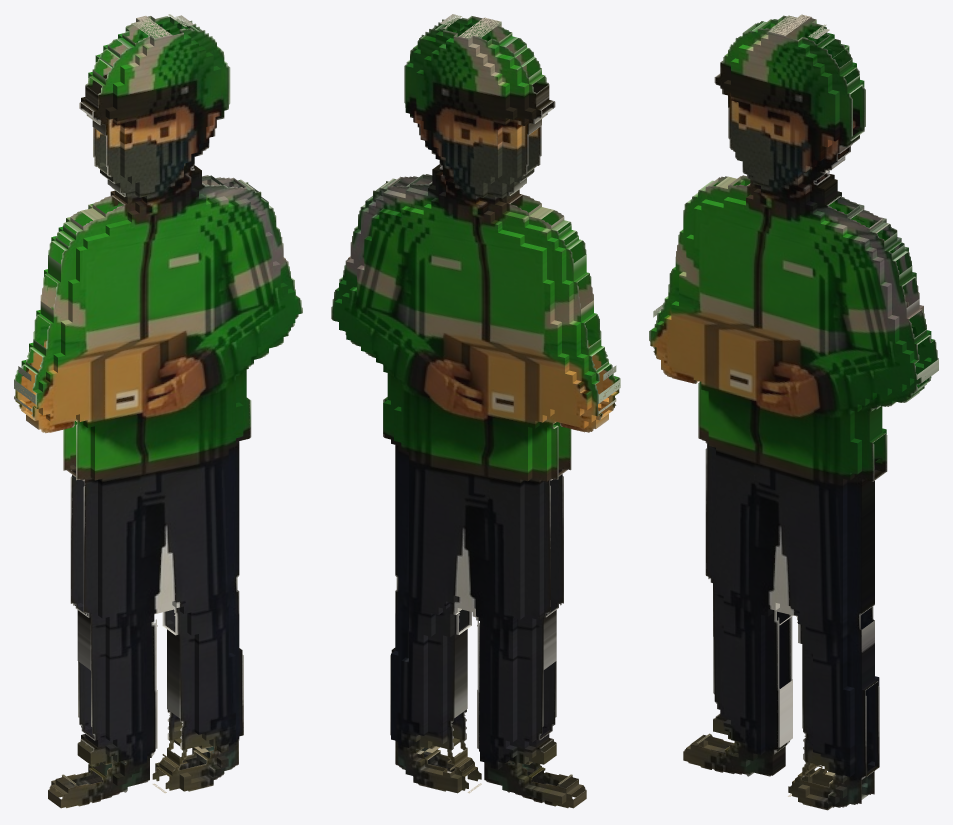
Rendered from char_0.glb.
The picture shows the model from 3 angles, left to right: view 1: azimuth 30°, elevation 25°; view 2: azimuth 150°, elevation 25°; view 3: azimuth 330°, elevation 25°; orthographic projection.
Parts seen in each view (by area): view 1: char_0; view 2: char_0; view 3: char_0.
Boxes of the visible parts, bbox=[...] form: char_0: bbox=[14, 14, 302, 808]; char_0: bbox=[331, 14, 620, 808]; char_0: bbox=[649, 14, 938, 810].
Bounding box in the file's own units: 36 × 98 × 6.
1 material, 1 textured.
